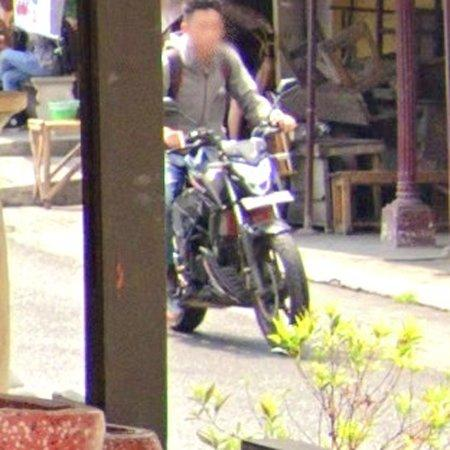motorcycles: (172, 131, 310, 336)
